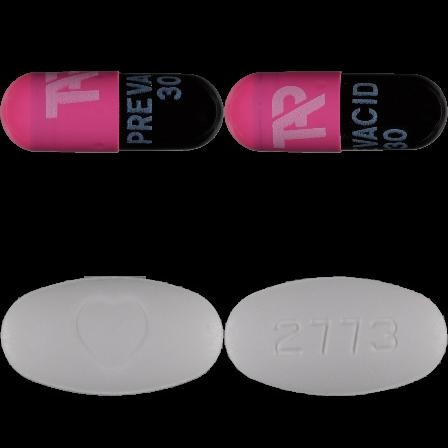63629-4151: (0, 0, 224, 224)
